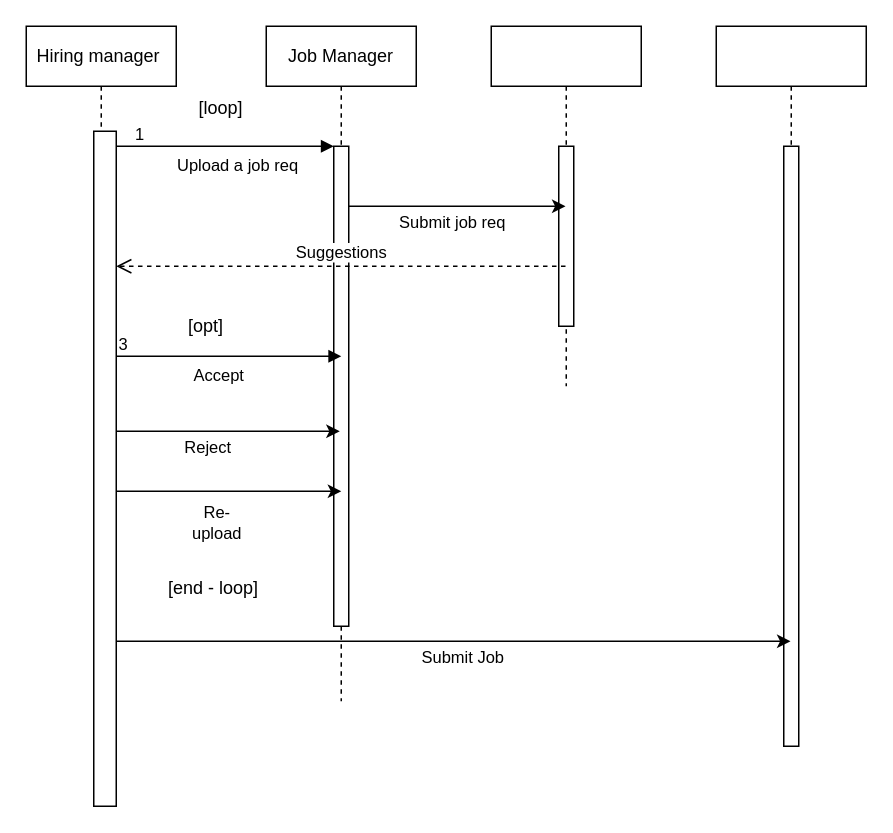
Image size: 893x833. Some labels were removed from this diagram. Here are the shapes that lost their labels. From the top down, the box of each, then its label:
(490, 25, 641, 386): Job AI
(715, 25, 866, 746): Match AI
